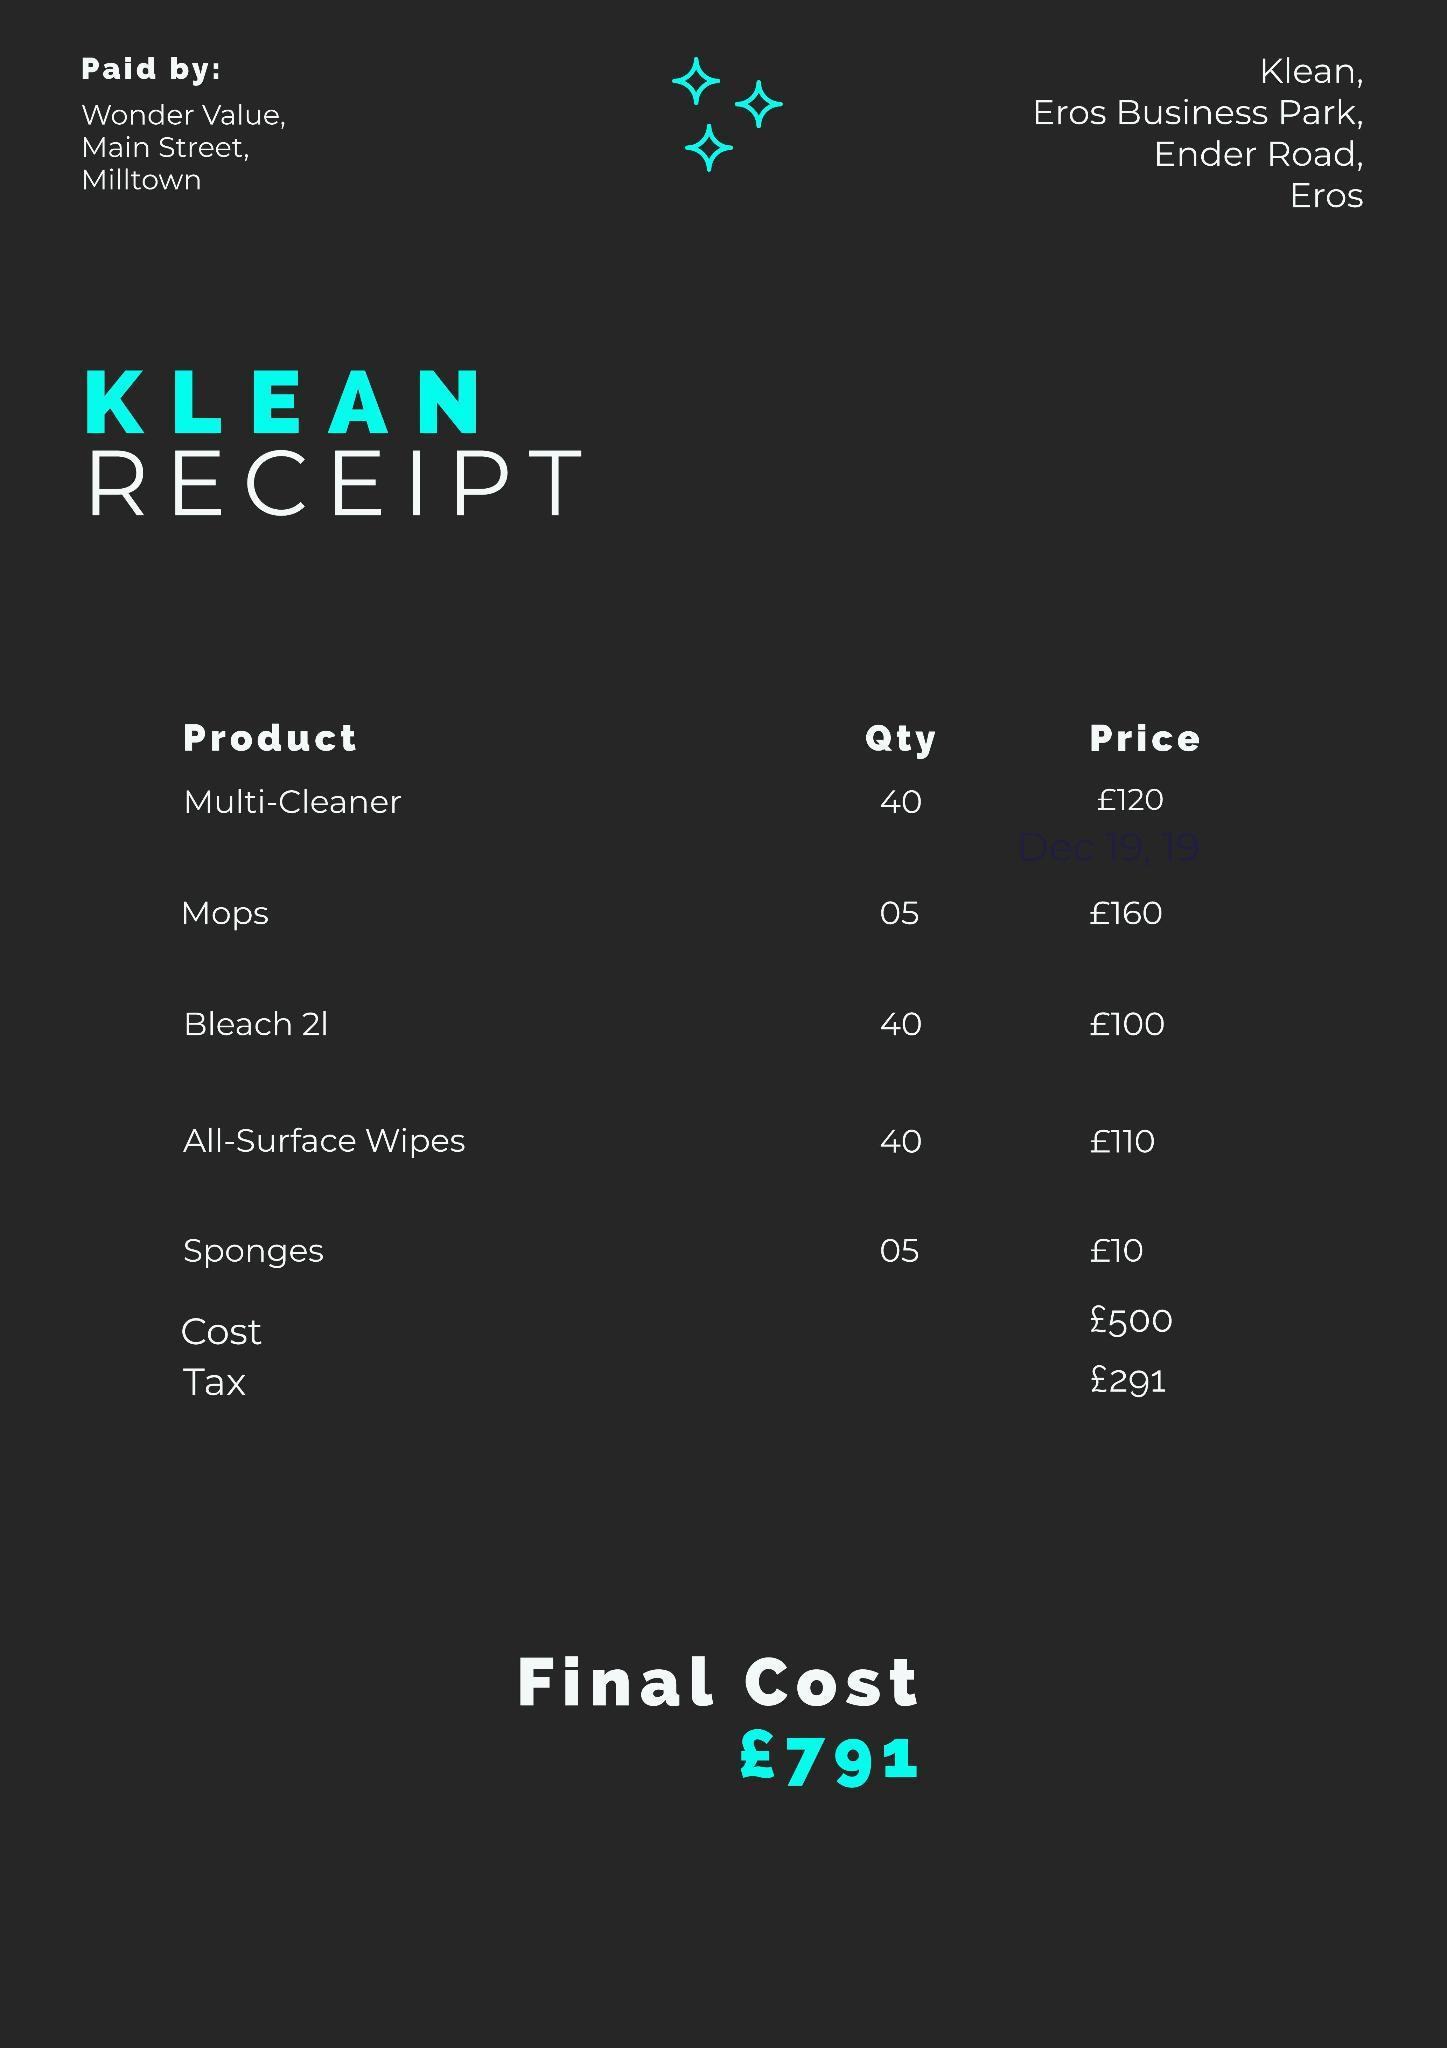ROI: (179, 708, 1218, 1271), (177, 1293, 1189, 1437), (78, 351, 595, 556), (511, 1635, 933, 1802), (1010, 52, 1389, 216), (66, 45, 302, 204)
